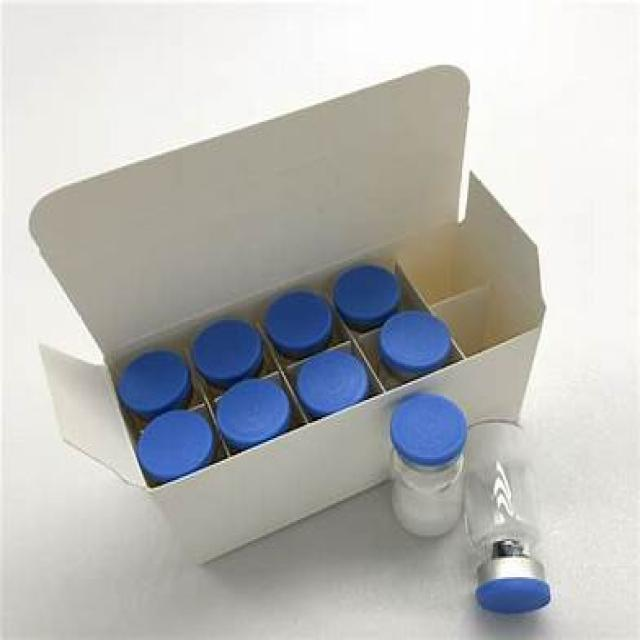vial: (184, 317, 279, 381), (487, 546, 573, 616), (377, 307, 462, 374), (263, 282, 341, 355), (291, 366, 377, 432), (386, 386, 456, 459), (325, 260, 402, 317), (129, 412, 215, 461), (108, 348, 184, 402), (209, 370, 288, 420)
